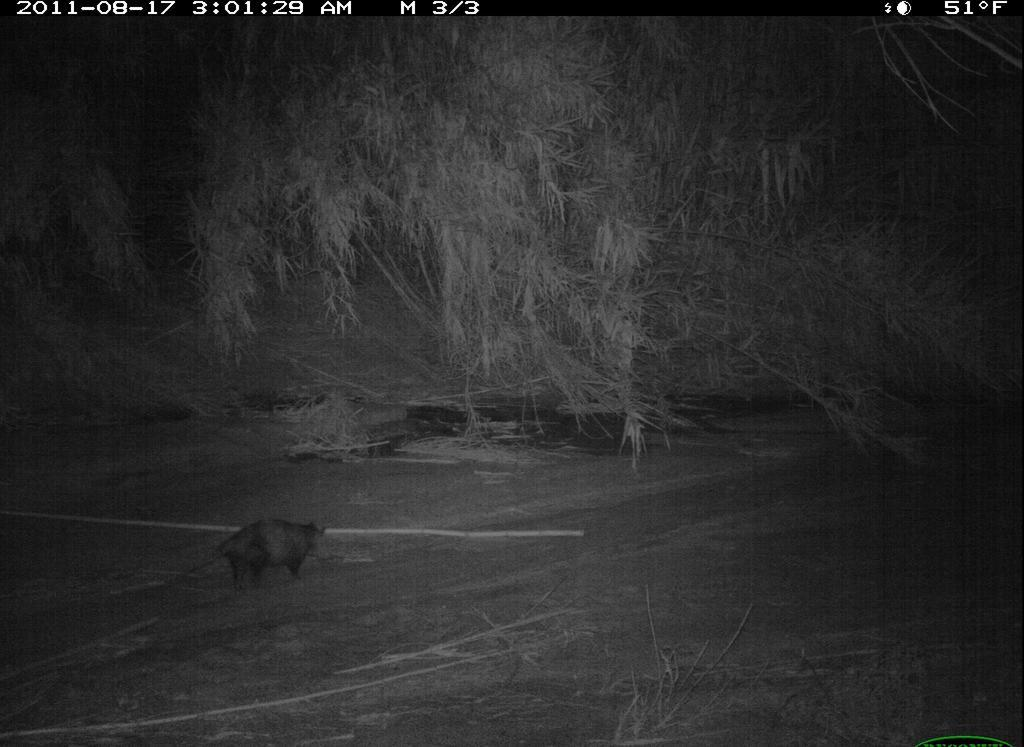opossum: (144, 514, 342, 615)
